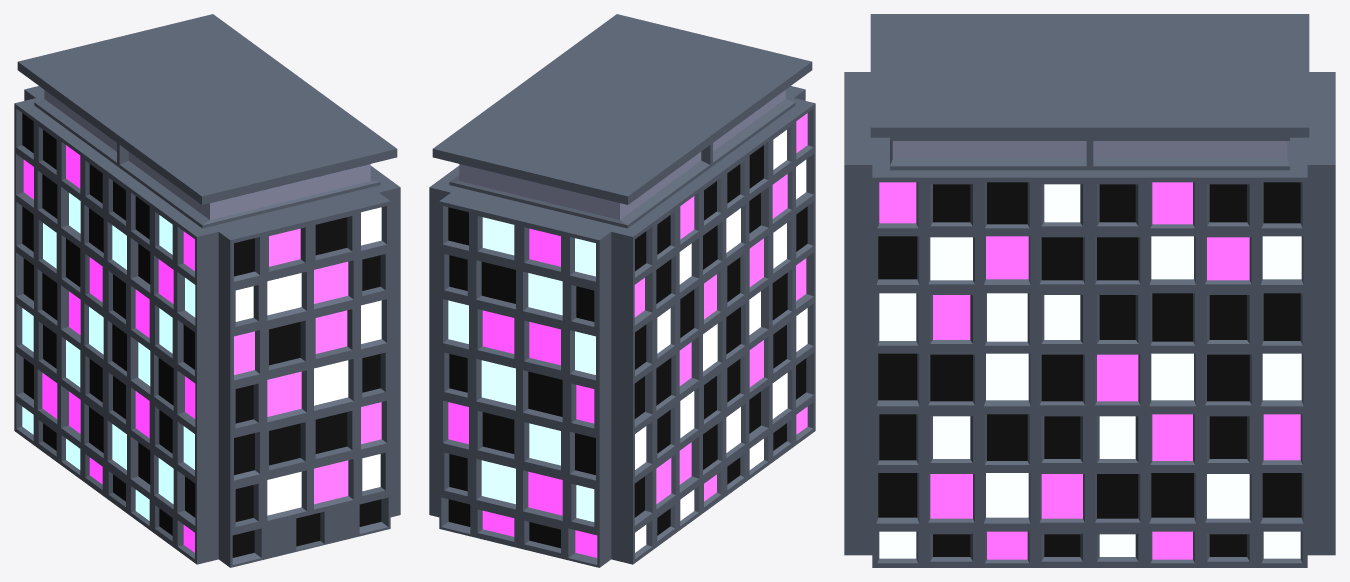
The model's file is Building2.fbx.
The picture shows the model from 3 angles, left to right: view 1: azimuth 30°, elevation 25°; view 2: azimuth 150°, elevation 25°; view 3: azimuth 270°, elevation 25°; orthographic projection. The views are drawn at different scales.
Parts seen in each view (by area): view 1: Box001.001; view 2: Box001.001; view 3: Box001.001.
Part boxes in pixels (x1=…): Box001.001: x1=14, y1=14, x2=400, y2=567; Box001.001: x1=429, y1=14, x2=815, y2=567; Box001.001: x1=844, y1=14, x2=1335, y2=567.
Bounding box in the file's own units: 948 × 1636 × 1662.
